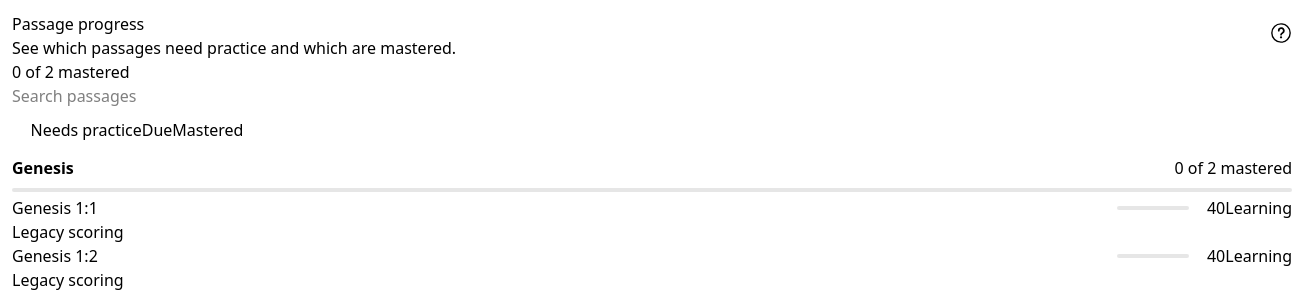
Test: PassageBrowser › searches by passage title
Type "1:2" into the search field labelled "Search passages" at (652, 96), box [12,84,1292,108]
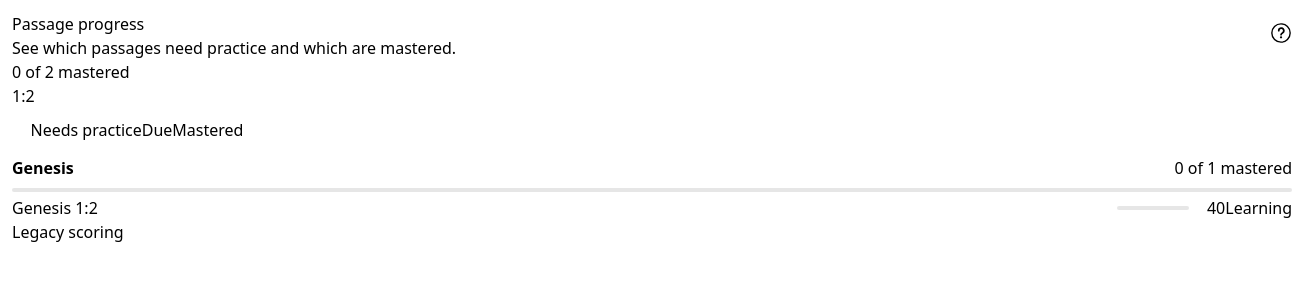
Expected: the element with test id "progress-mastery" shows "Genesis 1:2", [12,197,98,219]
Now the element with test id "progress-mastery" no longer shows "Genesis 1:1"
